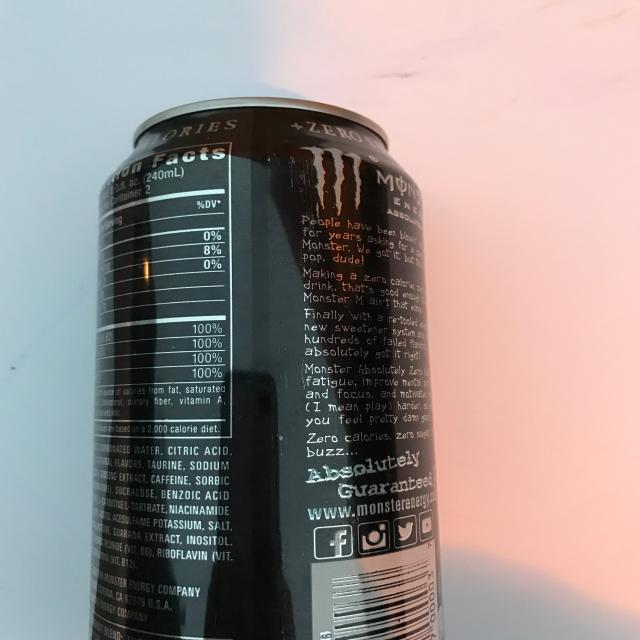metal: (89, 95, 445, 640)
